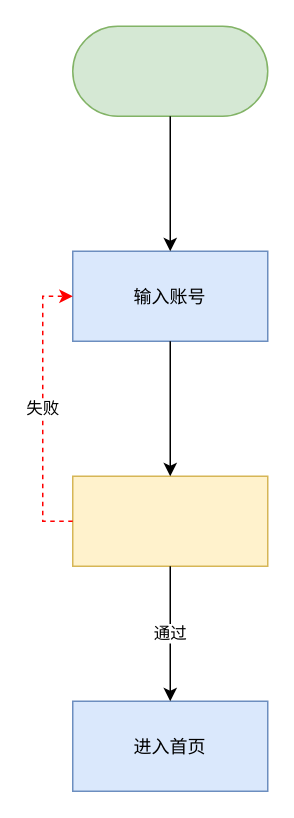
Some shapes in this 294 by 818 pixel diagram are drawn without their labels. The box of each missing label's shape, as (x1, y1, x2, y2) in pixels:
开始: (71, 25, 268, 116)
校验: (71, 475, 268, 566)
